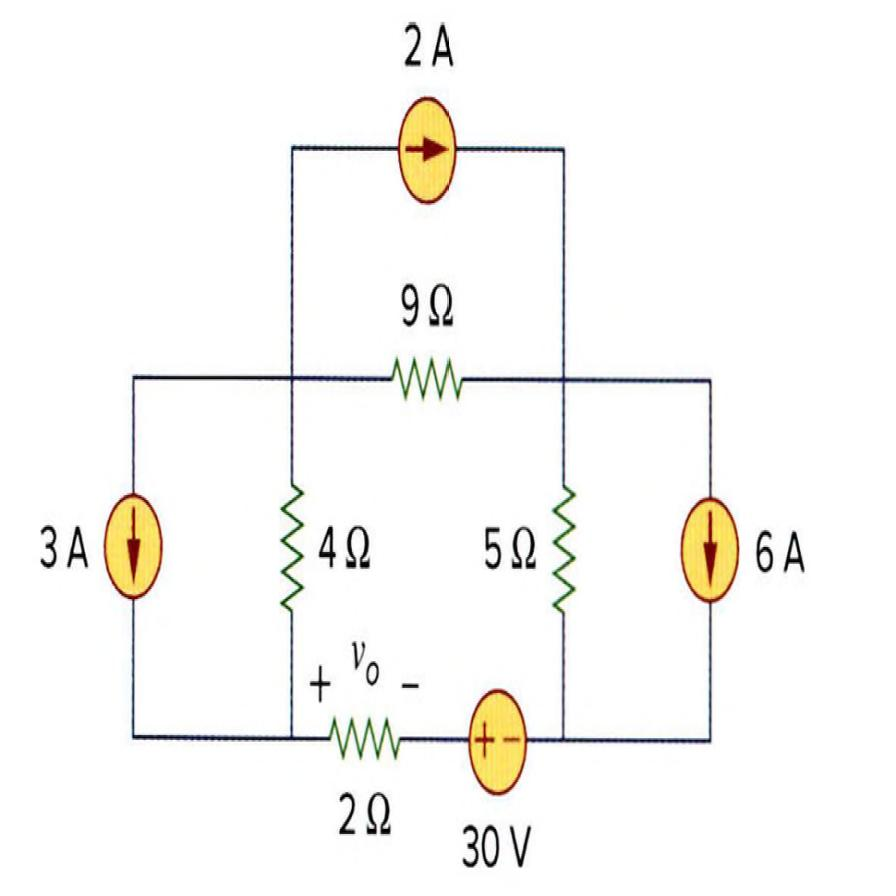I2: (390, 88, 463, 215)
I3: (672, 483, 744, 627), (96, 477, 167, 610)
R1: (376, 344, 472, 421), (324, 710, 409, 778)
R2: (540, 469, 586, 633), (266, 470, 313, 627)
V4: (460, 672, 535, 800)
